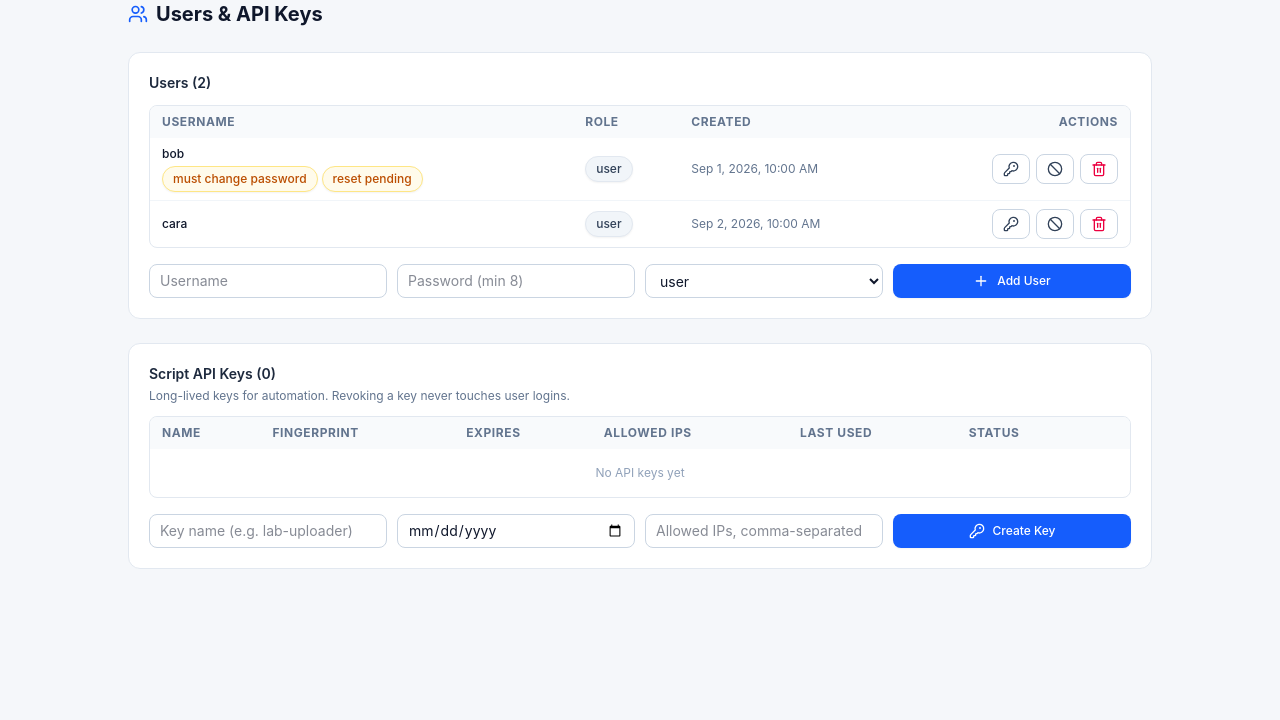
Test: Users password reset › issues a reset link and shows it once
Expected: the text "bob" is shown, [162,146,184,161]
Click the button titled "Reset password / issue link" in the row of "bob" at (1011, 169), box [992,154,1030,184]
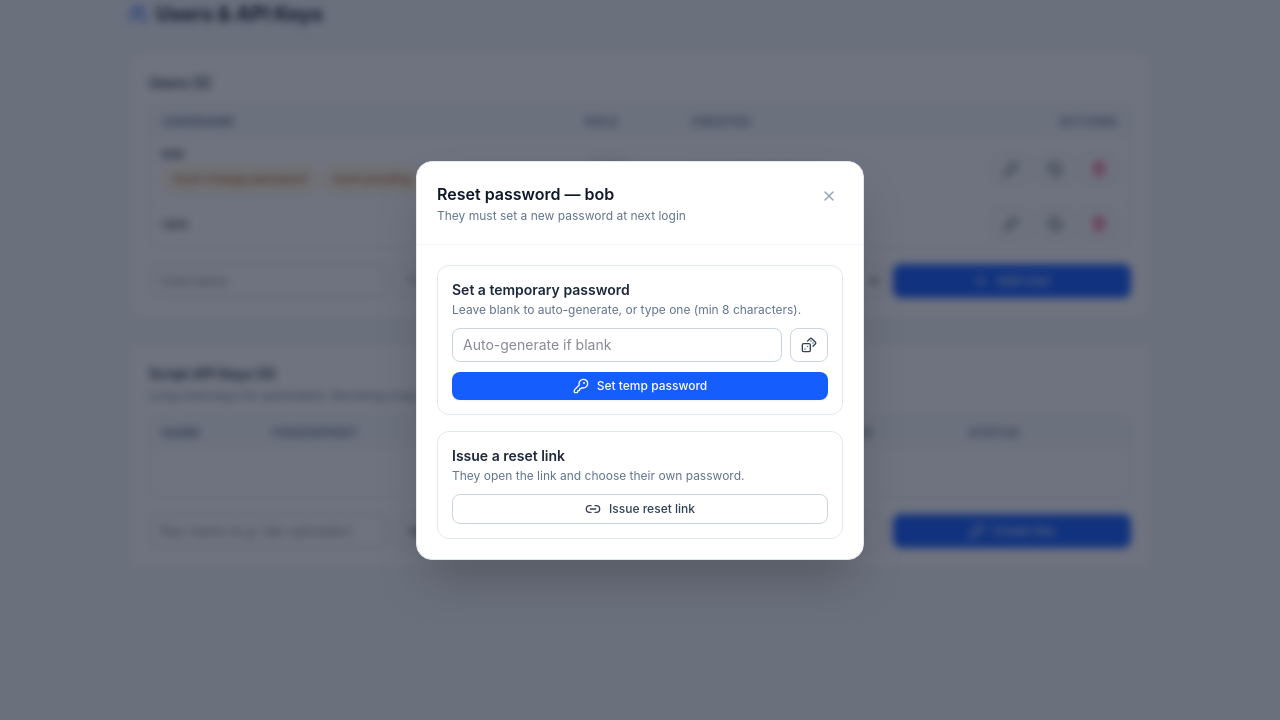
Now the heading "Reset password — bob" is shown, box [437,184,614,204]
Click the button "Issue reset link" at (640, 508), box [452,494,828,524]
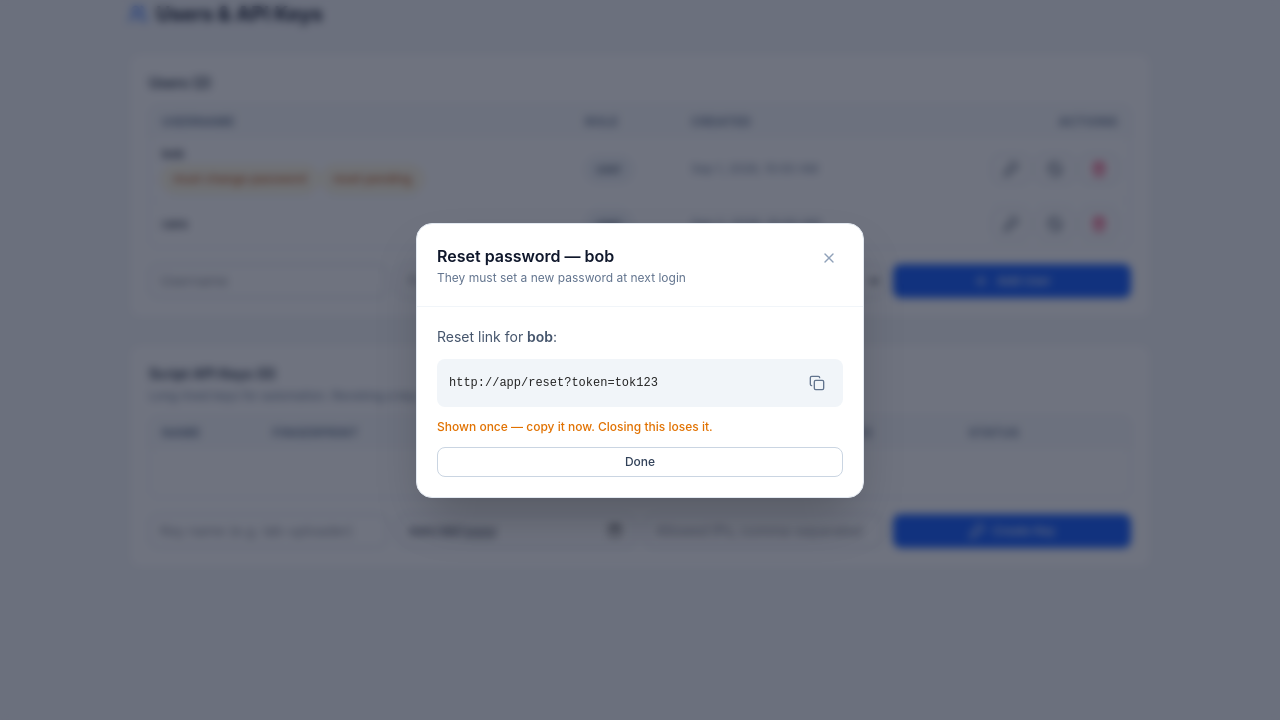
Now the text "http://app/reset?token=tok123" is shown, box [449,376,658,390]
Now the text "Shown once — copy it now. Closing this loses it." is shown, box [437,418,713,434]
